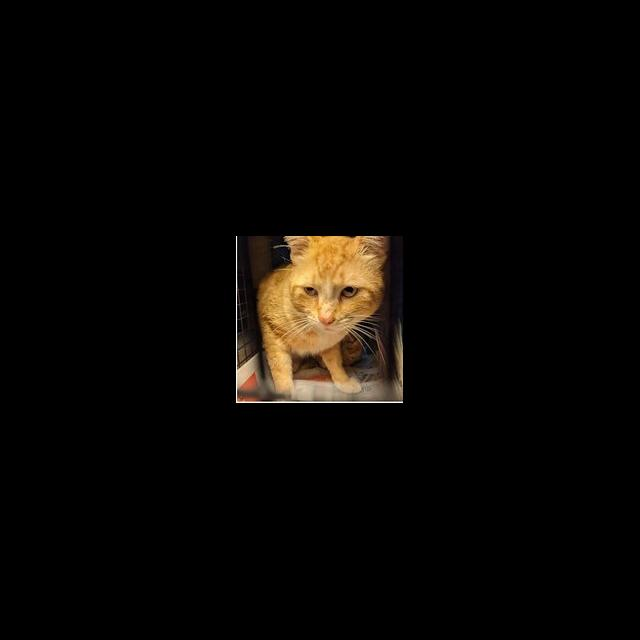animals: (258, 236, 387, 394)
